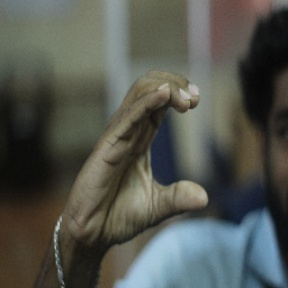C: (95, 63, 223, 230)
